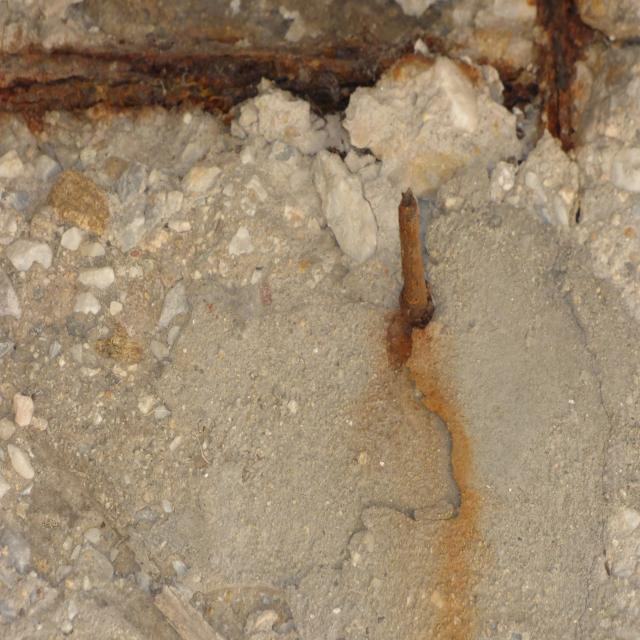corrosion: (0, 0, 632, 167), (367, 170, 499, 640)
